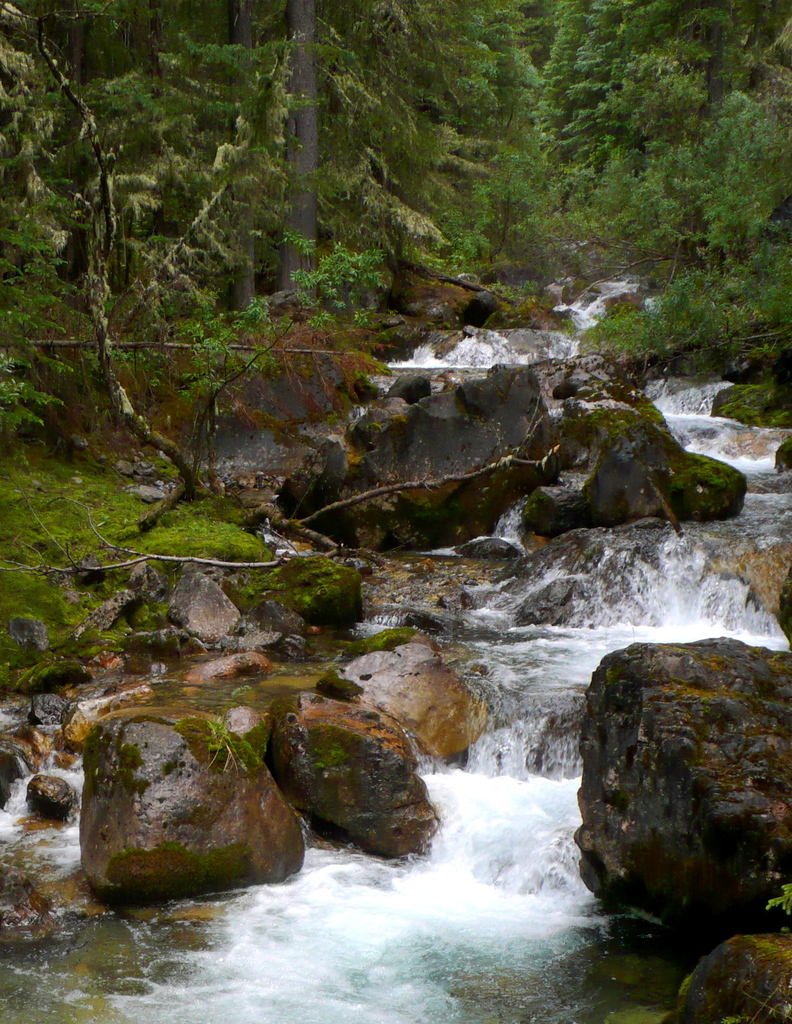Tree: (0, 0, 791, 584)
